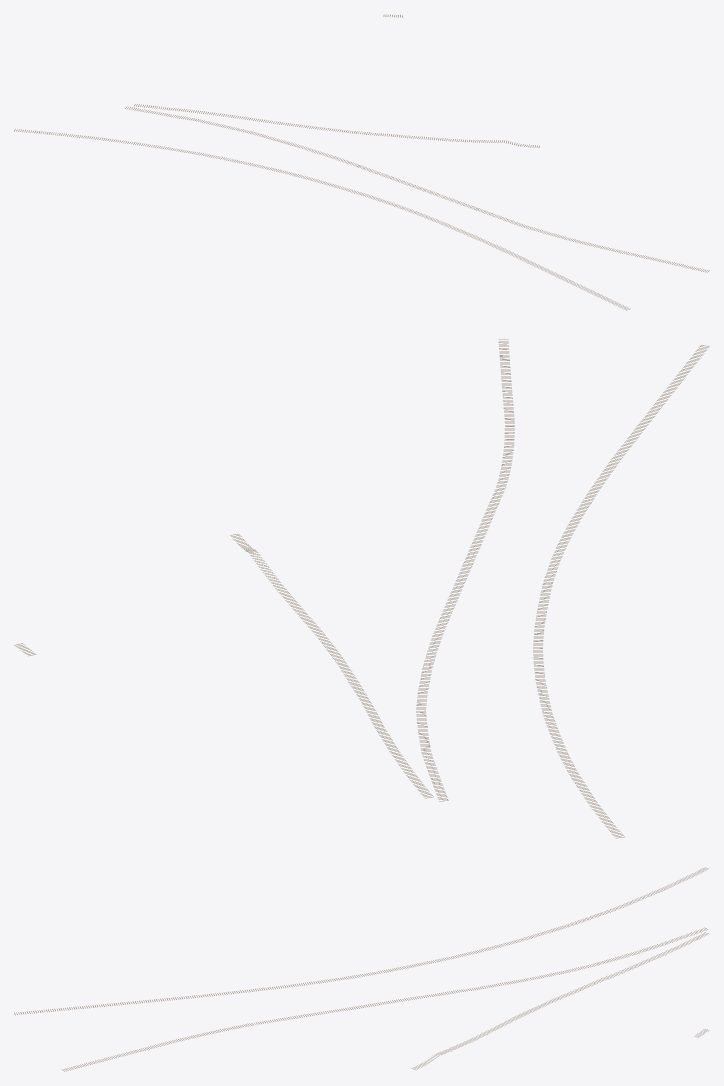
File: c_1629_17823_rail_sleeper.glb
3 renders of one model, top to bottom at view 1: azimuth 30°, elevation 25°; view 2: azimuth 150°, elevation 25°; view 3: azimuth 270°, elevation 25°, orthographic. The views are drawn at different scales.
Parts seen in each view (by area): view 1: geometry_0; view 2: geometry_0; view 3: geometry_0.
Part boxes in pixels (x1=…): geometry_0: x1=14, y1=14, x2=709, y2=310; geometry_0: x1=14, y1=339, x2=709, y2=838; geometry_0: x1=14, y1=867, x2=709, y2=1071.
Size of the model in its own units: 172 by 13.73 by 257.
